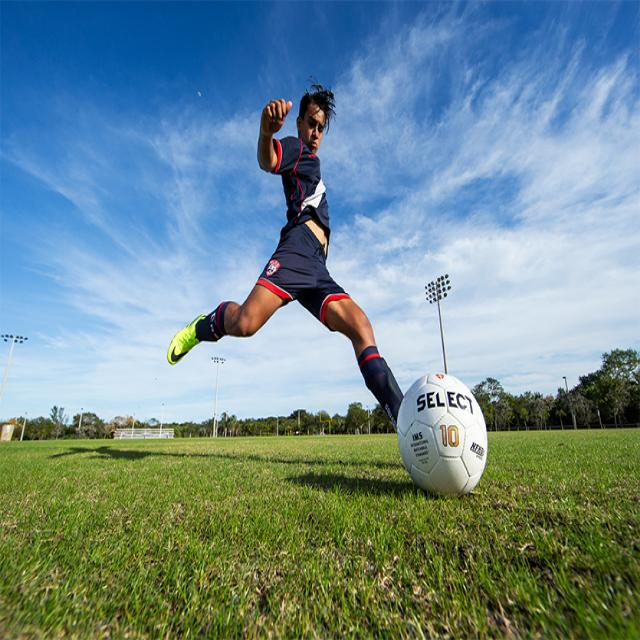soccer ball: (398, 371, 488, 502)
